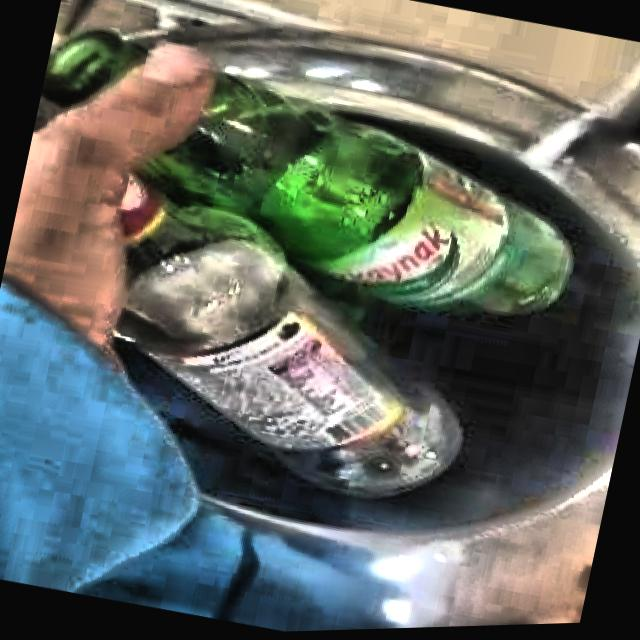glass: (120, 75, 573, 499), (35, 31, 144, 121)
